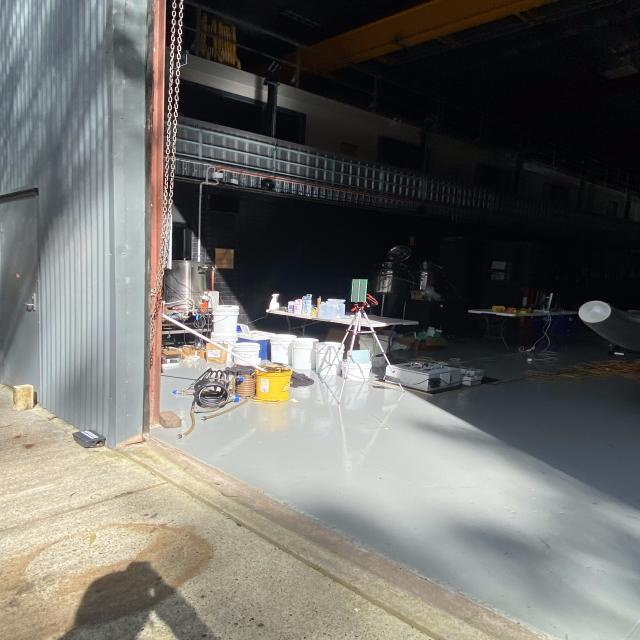matrix: (349, 277, 369, 304)
